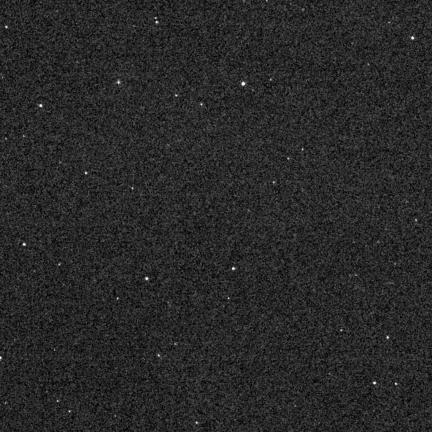blob: (117, 80, 122, 85), (411, 36, 415, 41), (39, 104, 43, 108), (175, 94, 179, 98), (373, 381, 377, 385), (23, 243, 27, 247), (232, 267, 236, 271), (85, 172, 89, 175), (387, 336, 390, 340), (242, 82, 245, 86), (395, 383, 398, 386), (146, 277, 148, 280)
